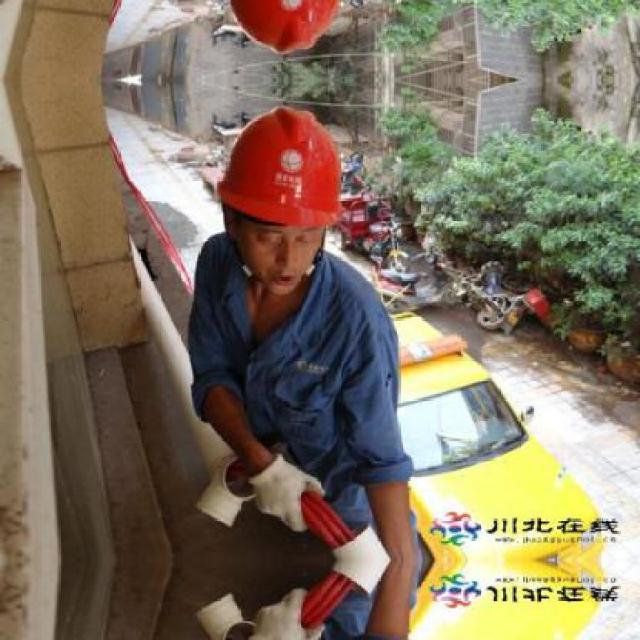helmet: (198, 93, 356, 298), (198, 0, 357, 68)
